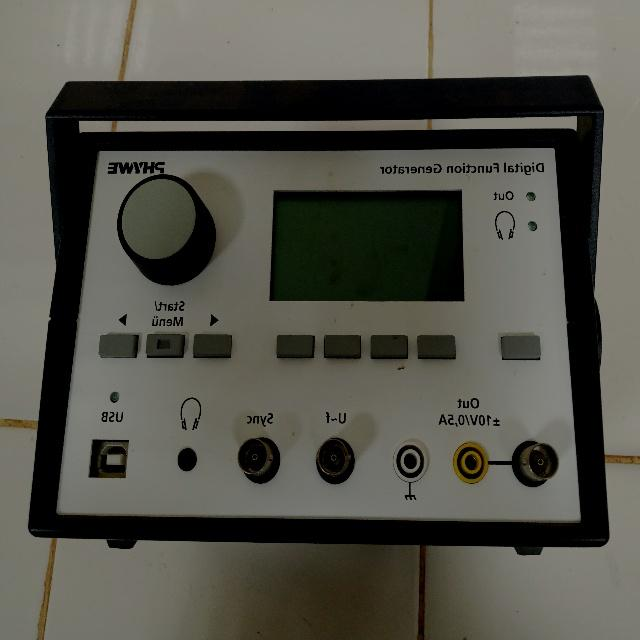Digital Function Generator: (15, 68, 626, 580)
